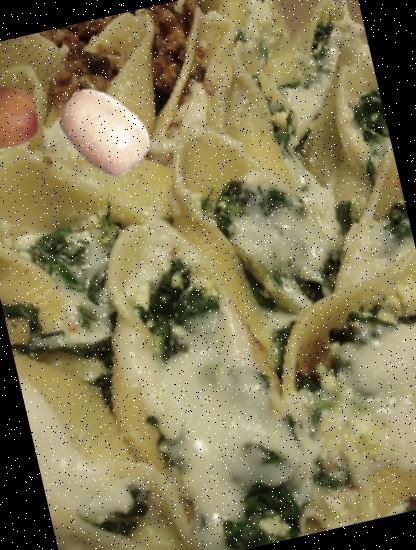Apricot: (0, 75, 47, 161)
Kumquats: (46, 73, 162, 189)
